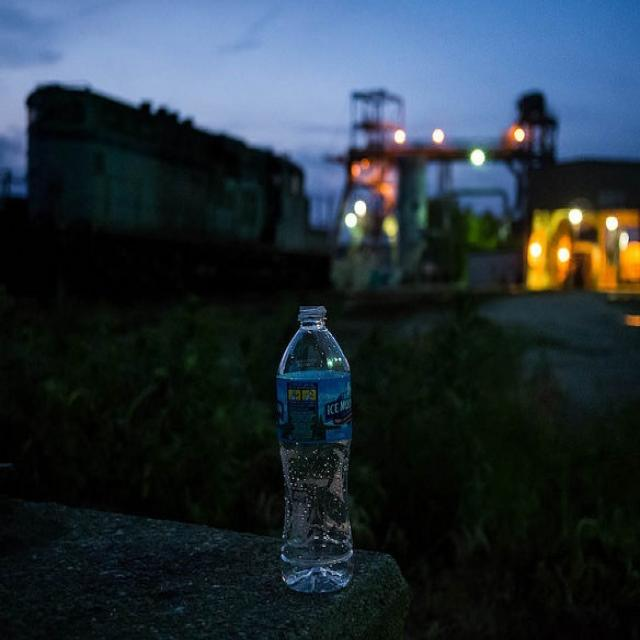Bottle: (258, 284, 391, 634)
